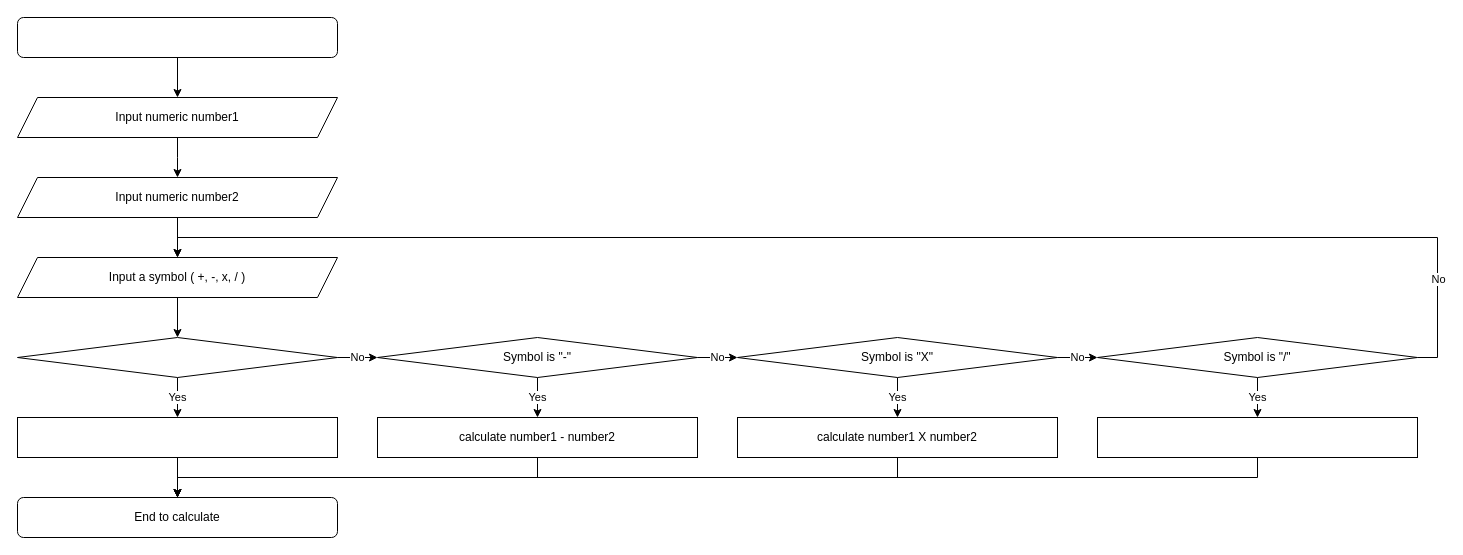
Some shapes in this 1463 by 555 pixel diagram are drawn without their labels. Here are the shapes that lost their labels. From the top down, the centre of each, then its label:
the point at 177,37: Start to calculate
the point at 177,357: Symbol is "+"
the point at 177,437: calculate number1 + number2
the point at 1257,437: calculate number1 / number2
